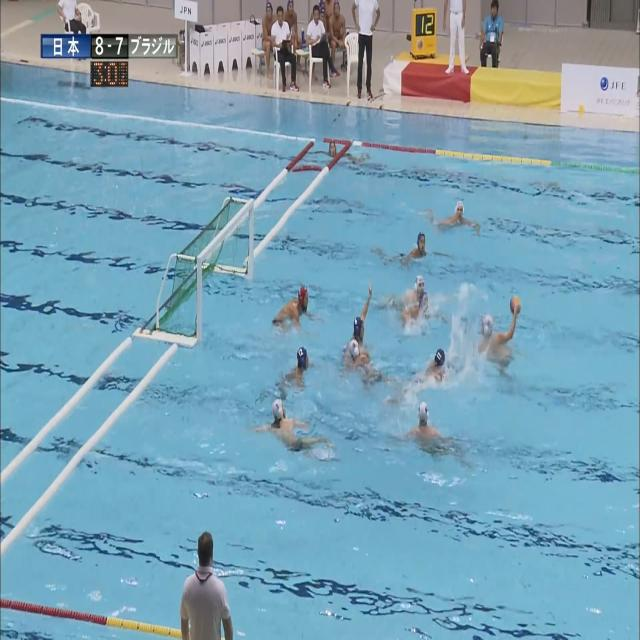ball: (510, 295, 521, 314)
